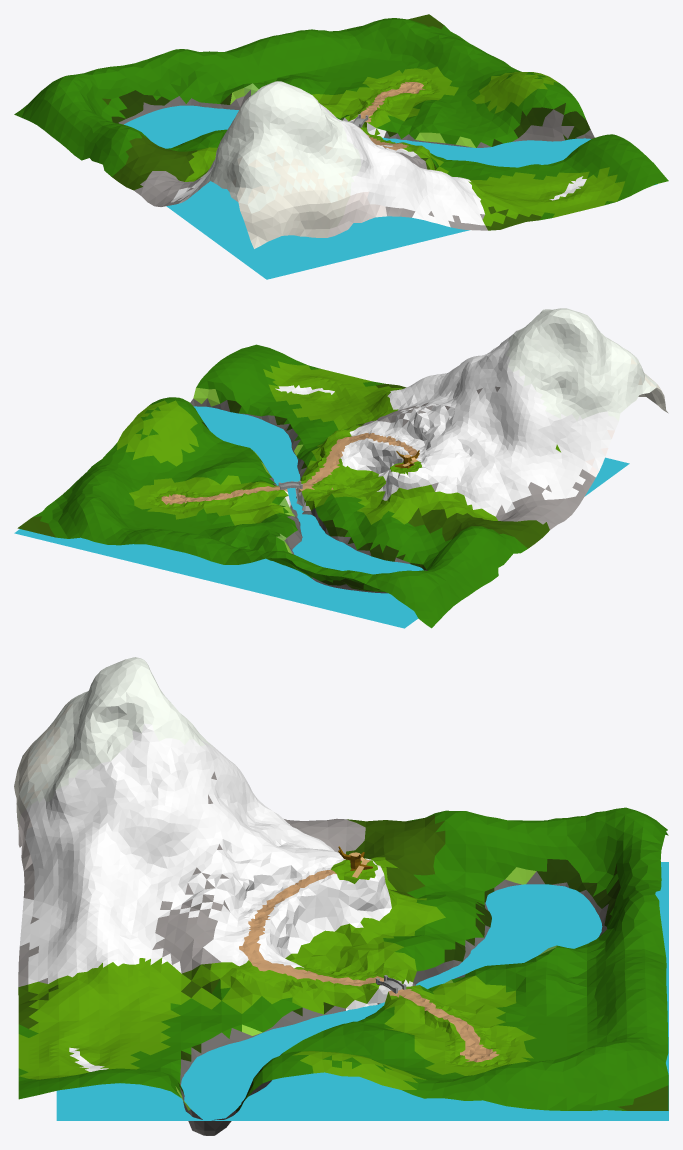
File: LastActualFinalLandscape.fbx
The picture shows the model from 3 angles, top to bottom: view 1: azimuth 30°, elevation 25°; view 2: azimuth 150°, elevation 25°; view 3: azimuth 270°, elevation 25°; orthographic projection. The views are drawn at different scales.
Visible parts, largest first — view 1: Plane, Plane.001; view 2: Plane, Plane.001; view 3: Plane, Plane.001.
Part boxes in pixels (box(x1,y1,x2,y2)): Plane: box(14, 14, 668, 248); Plane.001: box(124, 105, 657, 279); Plane: box(17, 308, 668, 628); Plane.001: box(14, 406, 629, 628); Plane: box(14, 657, 668, 1135); Plane.001: box(56, 862, 668, 1120).
Bounding box in the file's own units: 11440 × 4935 × 11383.
